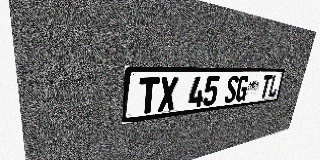4: (187, 76, 206, 108)
5: (202, 76, 220, 106)
G: (235, 75, 250, 102)
L: (267, 75, 280, 97)
S: (223, 76, 240, 103)
T: (137, 77, 160, 115), (259, 75, 273, 99)
X: (158, 77, 179, 112)
